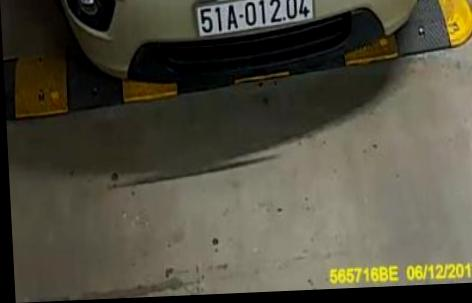License_Plate: (194, 0, 320, 39)
